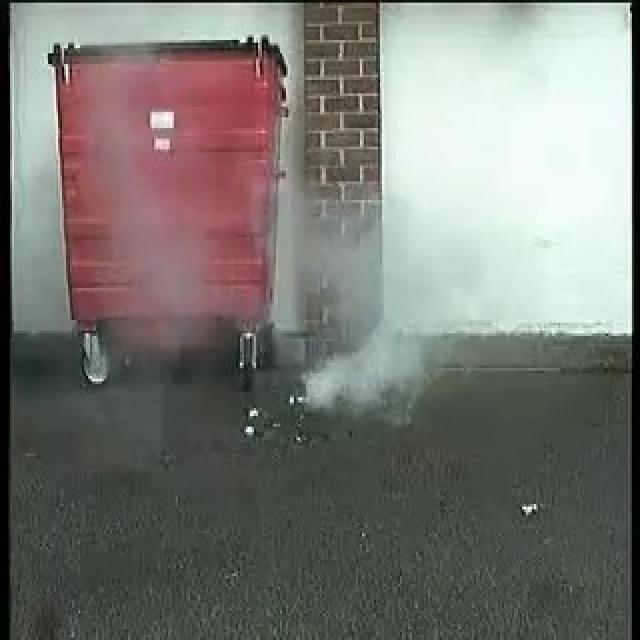smoke: (296, 216, 458, 411)
